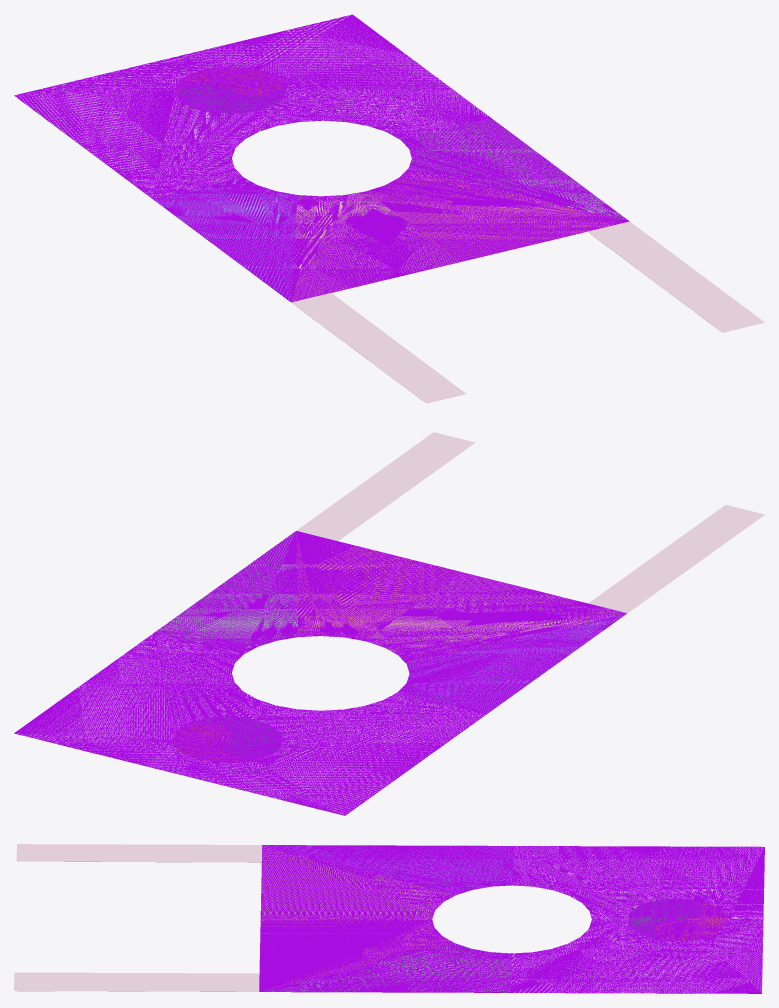
Rendered from kite_11.dae.
3 views of the same model, one above another, from view 1: azimuth 30°, elevation 25°; view 2: azimuth 150°, elevation 25°; view 3: azimuth 270°, elevation 25° (orthographic). The views are drawn at different scales.
Visible parts, largest first — view 1: Body.005, Body, Body.008, Body.006, Body.004, group_2, group_0.002, group_3, Body.003; view 2: Body.005, Body.008, Body, Body.004, Body.006, group_2, group_0.002, group_3, Body.003; view 3: Body.005, Body, Body.008, Body.004, Body.006, group_2, group_0.002, Body.003, group_3.
Part boxes in pixels (bbox=[...]): Body.005: bbox=[14, 14, 490, 198]; Body: bbox=[366, 168, 629, 261]; Body.008: bbox=[291, 191, 459, 302]; Body.006: bbox=[401, 118, 628, 220]; Body.004: bbox=[153, 177, 297, 301]; group_2: bbox=[587, 221, 764, 332]; group_0.002: bbox=[291, 293, 465, 403]; group_3: bbox=[174, 66, 282, 98]; Body.003: bbox=[178, 82, 286, 113]; Body.005: bbox=[14, 632, 485, 815]; Body.008: bbox=[366, 572, 626, 663]; Body: bbox=[296, 531, 461, 640]; Body.004: bbox=[398, 613, 626, 714]; Body.006: bbox=[155, 531, 297, 653]; group_2: bbox=[296, 432, 474, 540]; group_0.002: bbox=[588, 505, 764, 613]; group_3: bbox=[172, 722, 269, 763]; Body.003: bbox=[185, 716, 282, 757]; Body.005: bbox=[510, 846, 764, 993]; Body: bbox=[259, 918, 454, 991]; Body.008: bbox=[260, 845, 455, 918]; Body.004: bbox=[263, 845, 513, 894]; Body.006: bbox=[259, 943, 511, 992]; group_2: bbox=[14, 972, 259, 991]; group_0.002: bbox=[16, 844, 261, 862]; Body.003: bbox=[628, 898, 702, 940]; group_3: bbox=[652, 899, 727, 941].
Size of the model in its own units: 20.31 by 43.09 by 0.00852.
